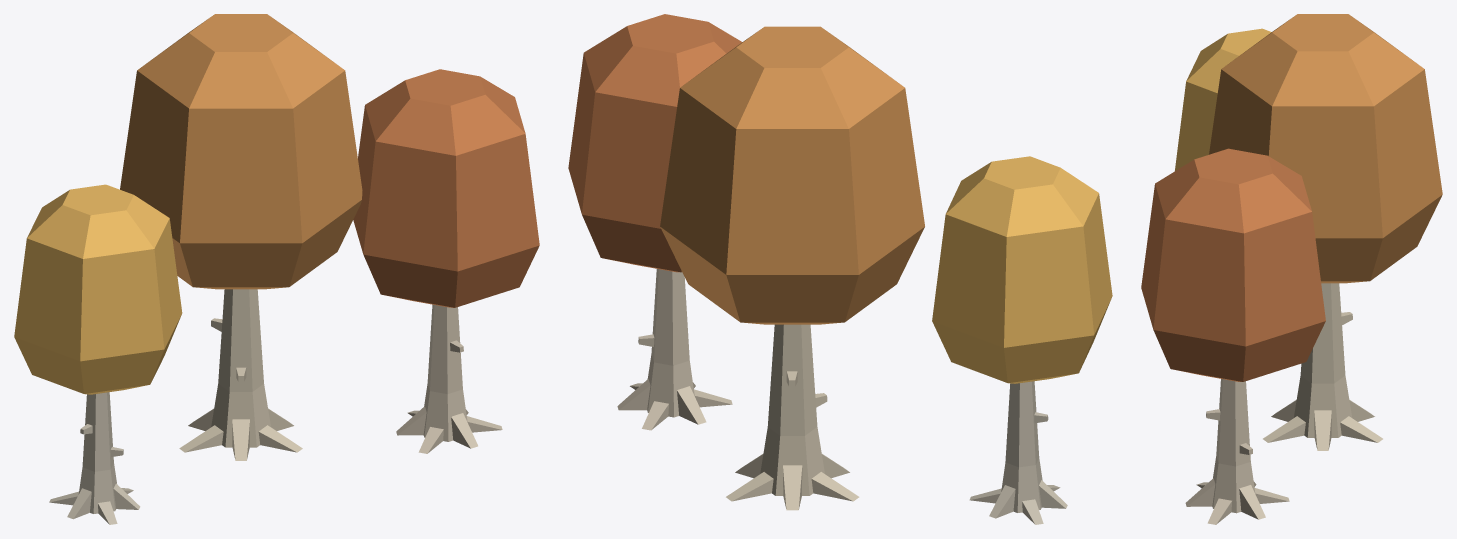
Rendered from veg_autumn_grove.glb.
The picture shows the model from 3 angles, left to right: view 1: azimuth 30°, elevation 25°; view 2: azimuth 150°, elevation 25°; view 3: azimuth 270°, elevation 25°; orthographic projection. The views are drawn at different scales.
Parts seen in each view (by area): view 1: clump_0, clump_2, clump_1; view 2: clump_0, clump_1, clump_2; view 3: clump_0, clump_2, clump_1.
Boxes of the visible parts, left/top/right/bottom form: clump_0: left=120, top=14, right=362, bottom=460; clump_2: left=353, top=69, right=539, bottom=453; clump_1: left=14, top=184, right=182, bottom=524; clump_0: left=660, top=26, right=924, bottom=510; clump_1: left=932, top=156, right=1112, bottom=524; clump_2: left=568, top=14, right=742, bottom=430; clump_0: left=1209, top=14, right=1442, bottom=450; clump_2: left=1141, top=148, right=1325, bottom=524; clump_1: left=1175, top=28, right=1271, bottom=170.
Size of the model in its own units: 1.83 by 1.41 by 0.9779.
